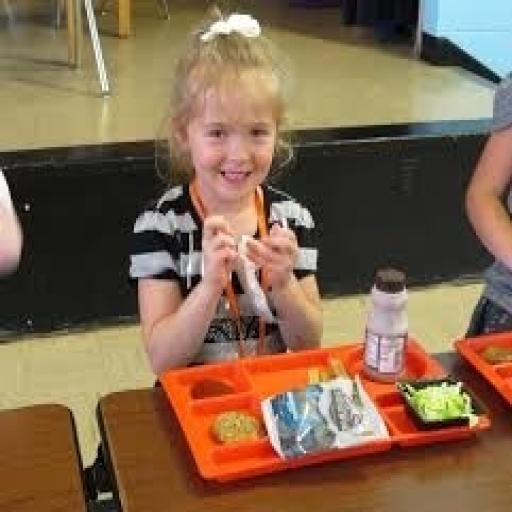eating: (125, 10, 325, 375), (461, 0, 510, 338)
